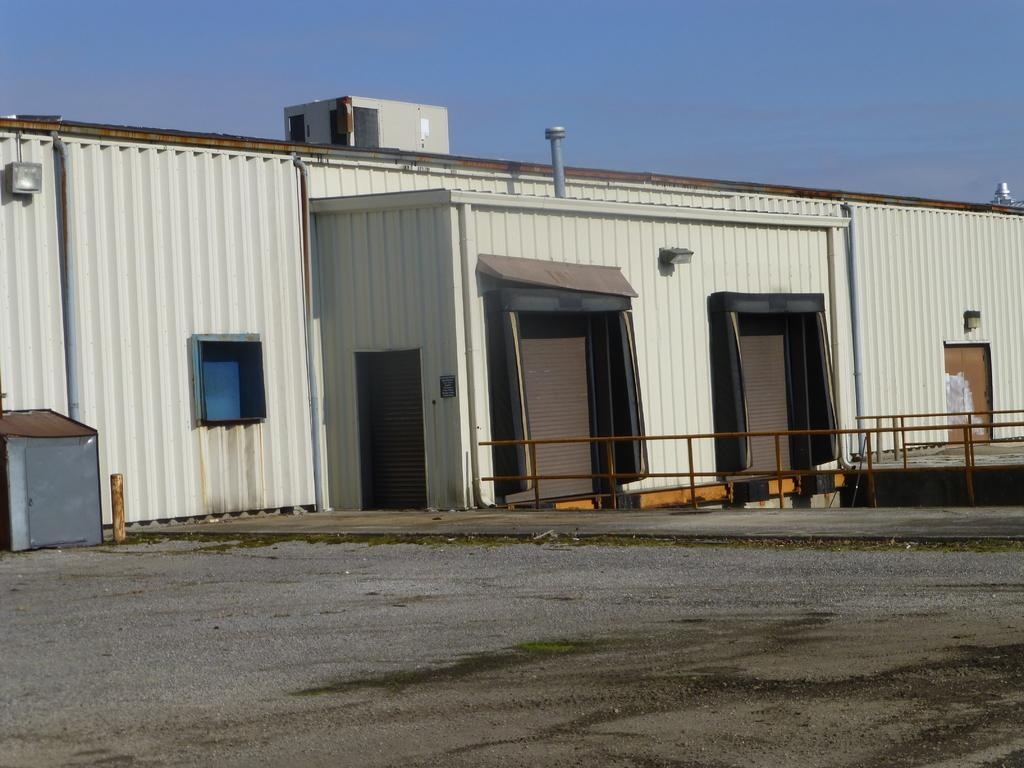door: (355, 365, 425, 515)
